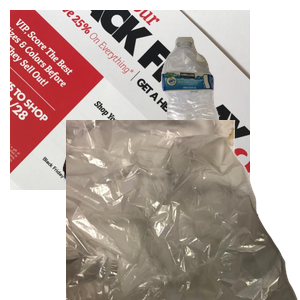glass: (60, 142, 300, 300)
paper: (10, 10, 250, 190)
plastic: (159, 34, 300, 176)
trash: (66, 120, 300, 300)
